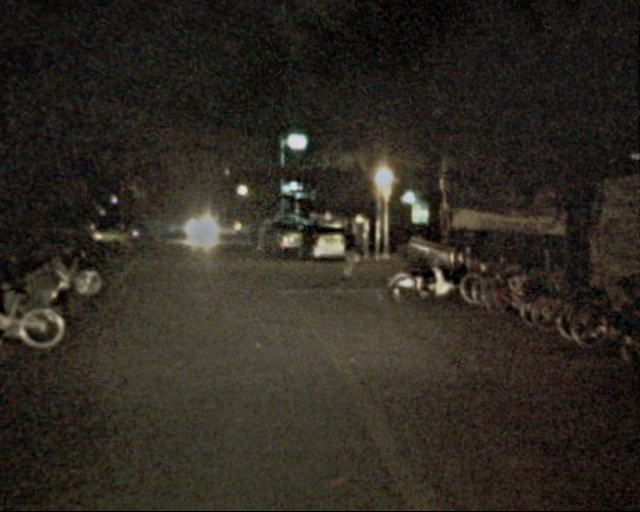person: (335, 226, 359, 284), (244, 222, 259, 259)
